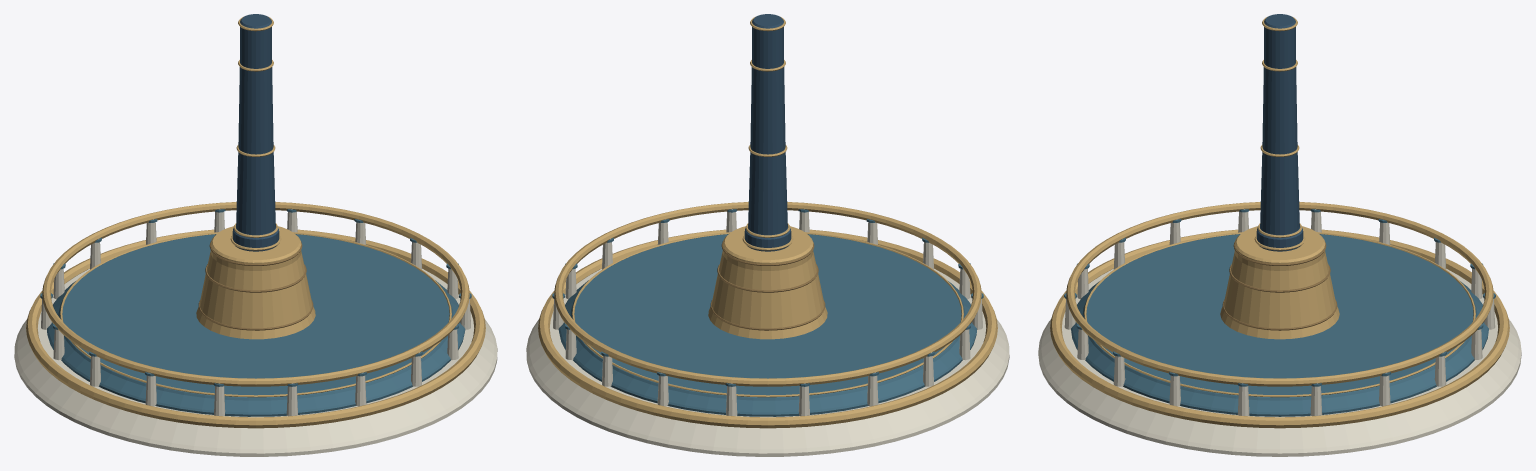
The model's file is world08-mechanism.glb.
3 views of the same model, side by side, from view 1: azimuth 30°, elevation 25°; view 2: azimuth 150°, elevation 25°; view 3: azimuth 270°, elevation 25° (orthographic).
Parts seen in each view (by area): view 1: observatory-armillary-pedestal-midnight-bronze, observatory-armillary-pedestal-aged-brass, observatory-armillary-pedestal-ivory-stone, forged vertical axle, observatory-armillary-pedestal-brass-shadow; view 2: observatory-armillary-pedestal-midnight-bronze, observatory-armillary-pedestal-aged-brass, observatory-armillary-pedestal-ivory-stone, forged vertical axle, observatory-armillary-pedestal-brass-shadow; view 3: observatory-armillary-pedestal-midnight-bronze, observatory-armillary-pedestal-aged-brass, observatory-armillary-pedestal-ivory-stone, forged vertical axle, observatory-armillary-pedestal-brass-shadow.
Boxes of the visible parts, x1,y1,x2,y2 form: observatory-armillary-pedestal-midnight-bronze: (40,209,471,416); observatory-armillary-pedestal-aged-brass: (26,17,485,428); observatory-armillary-pedestal-ivory-stone: (14,209,497,456); forged vertical axle: (232,14,279,251); observatory-armillary-pedestal-brass-shadow: (198,241,313,330); observatory-armillary-pedestal-midnight-bronze: (552,209,983,416); observatory-armillary-pedestal-aged-brass: (538,17,997,428); observatory-armillary-pedestal-ivory-stone: (526,209,1009,456); forged vertical axle: (744,14,791,251); observatory-armillary-pedestal-brass-shadow: (710,241,825,330); observatory-armillary-pedestal-midnight-bronze: (1064,209,1495,416); observatory-armillary-pedestal-aged-brass: (1050,17,1509,428); observatory-armillary-pedestal-ivory-stone: (1038,209,1521,456); forged vertical axle: (1256,14,1303,251); observatory-armillary-pedestal-brass-shadow: (1222,242,1337,330).
Bounding box in the file's own units: 16.5 × 13.06 × 16.5.
